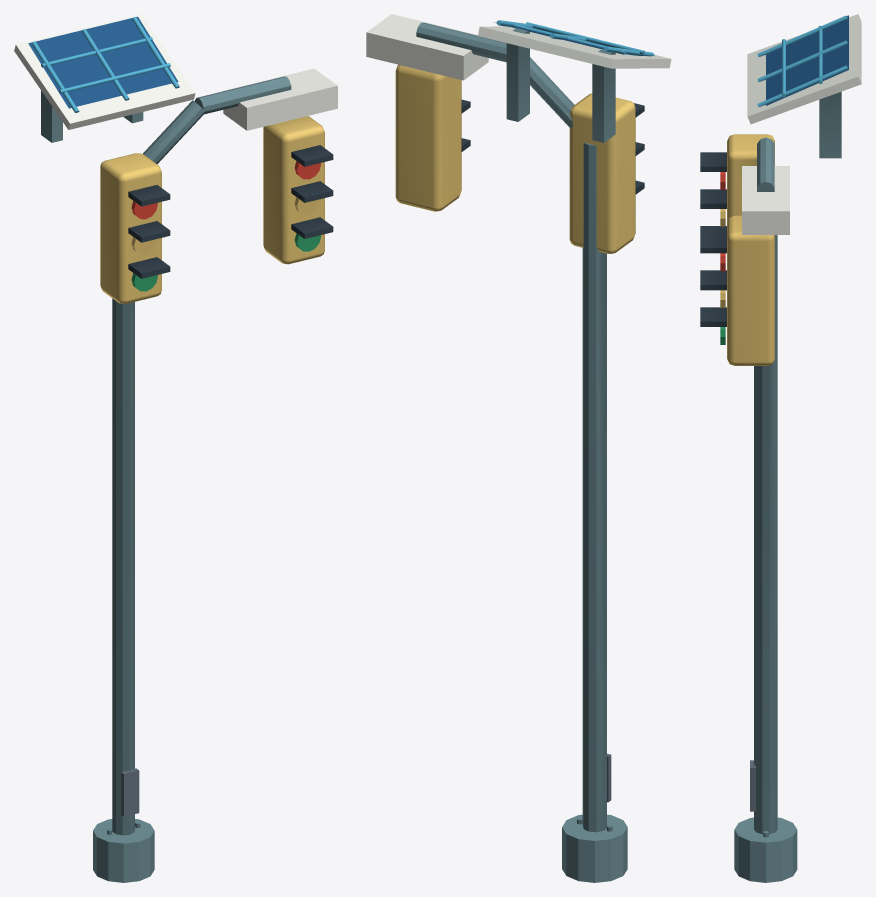
Rendered from traffic.glb.
3 views of the same model, side by side, from view 1: azimuth 30°, elevation 25°; view 2: azimuth 150°, elevation 25°; view 3: azimuth 270°, elevation 25° (orthographic). The views are drawn at different scales.
Visible parts, largest first — view 1: foot, lamp diffuser, lamp housing, photovoltaic cells, signal sun visor, solar cell division, maintenance hatch, lens, lens.002; view 2: foot, lamp diffuser, lamp housing, solar cell division; view 3: foot, lamp diffuser, lamp housing, photovoltaic cells, signal sun visor, solar cell division.
Boxes of the visible parts, box(x1,y1,x2,y2) form: foot: box(41, 76, 291, 882); lamp diffuser: box(100, 116, 324, 303); lamp housing: box(14, 14, 337, 130); photovoltaic cells: box(28, 16, 178, 108); signal sun visor: box(128, 145, 333, 278); solar cell division: box(31, 17, 179, 112); maintenance hatch: box(121, 768, 139, 816); lens: box(131, 233, 320, 291); lens.002: box(131, 161, 320, 219); foot: box(416, 22, 627, 882); lamp diffuser: box(395, 64, 635, 253); lamp housing: box(366, 14, 671, 80); solar cell division: box(496, 20, 654, 56); foot: box(734, 91, 841, 882); lamp diffuser: box(720, 134, 774, 365); lamp housing: box(742, 14, 861, 234); photovoltaic cells: box(766, 15, 848, 105); signal sun visor: box(700, 152, 726, 326); solar cell division: box(757, 15, 847, 106).
Size of the model in its own units: 0.845 by 2.47 by 0.4368.
